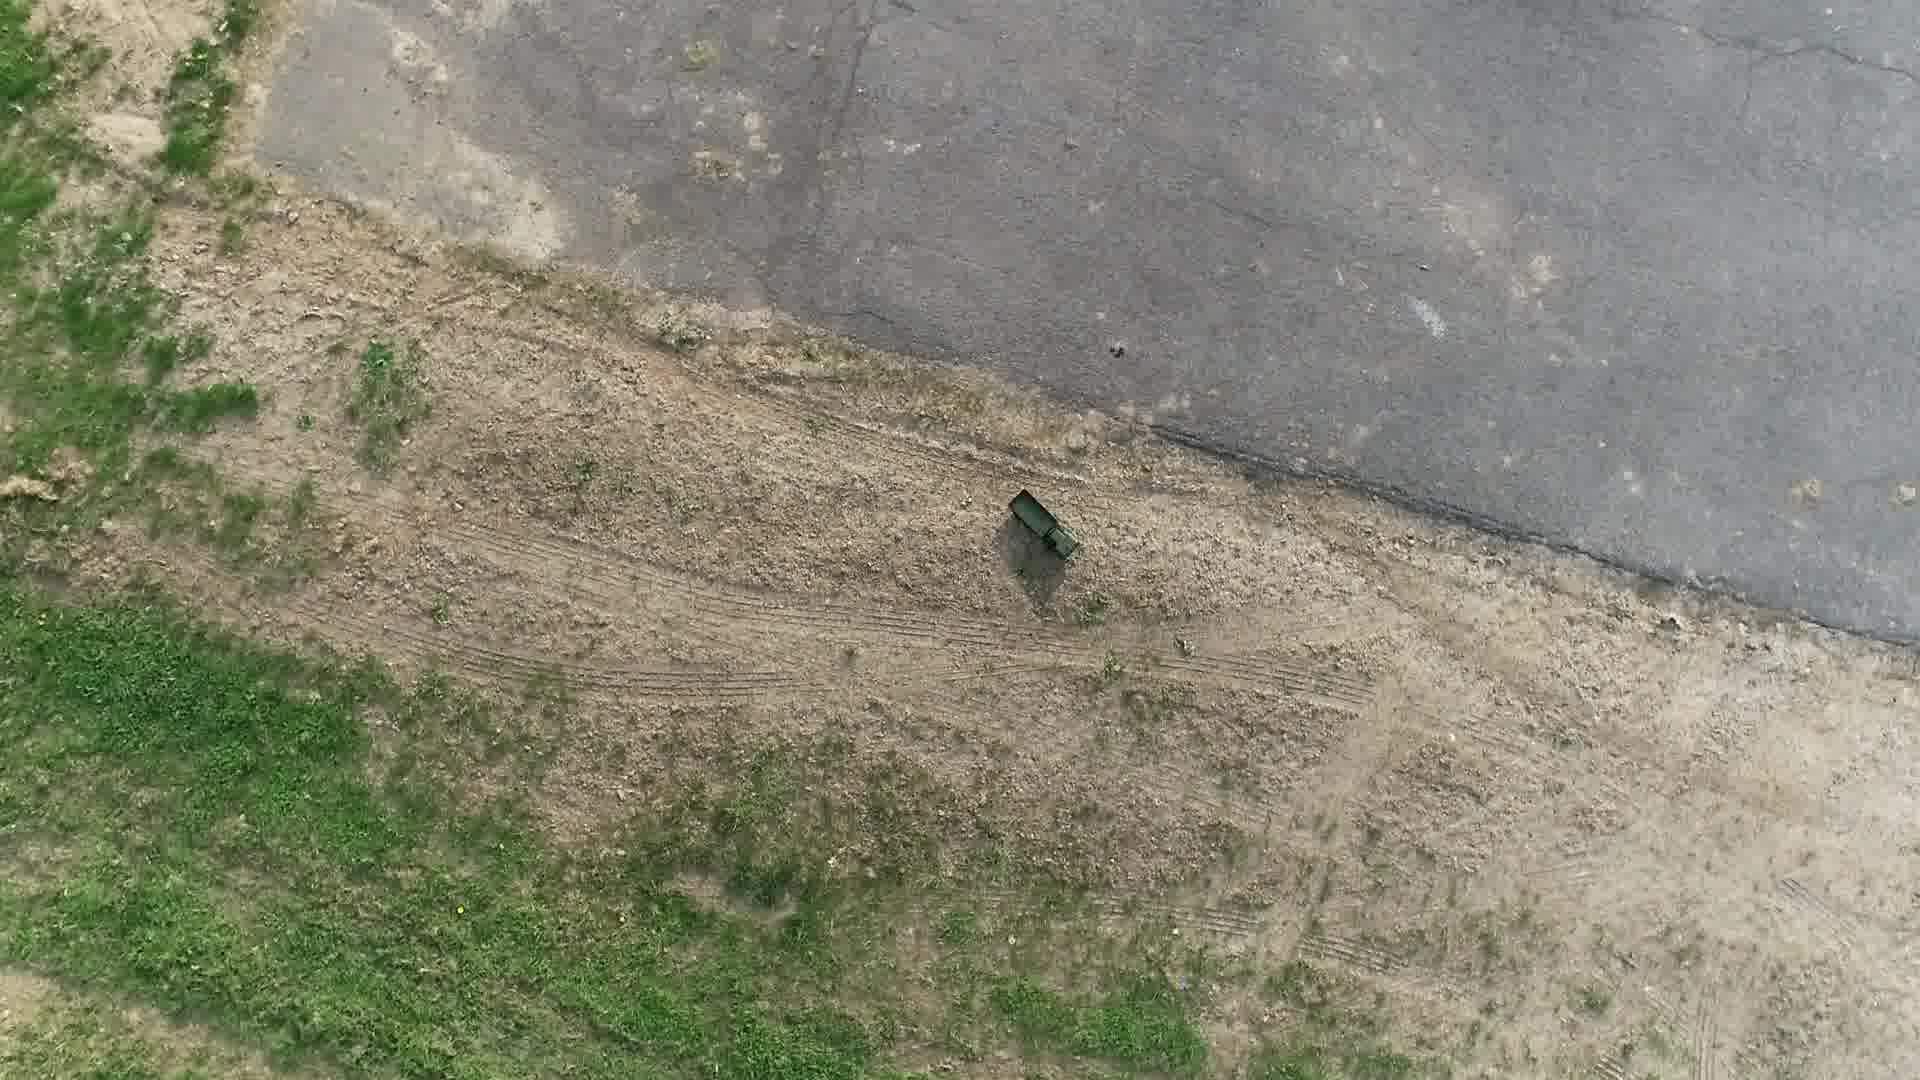transporter9: (1005, 487, 1085, 564)
